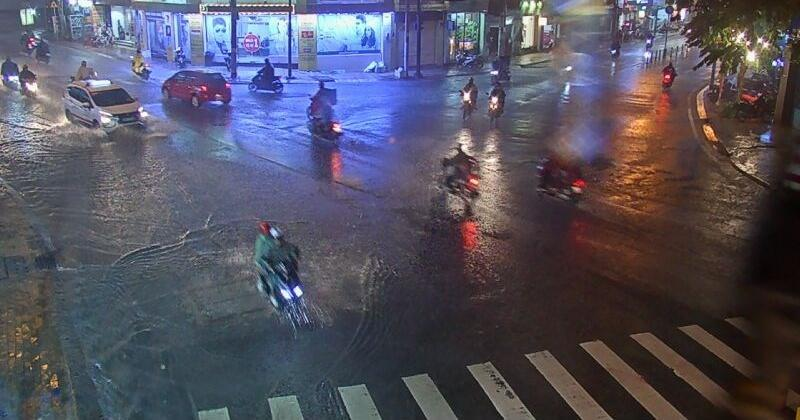xe hoi: (63, 79, 142, 131), (160, 69, 231, 107)
